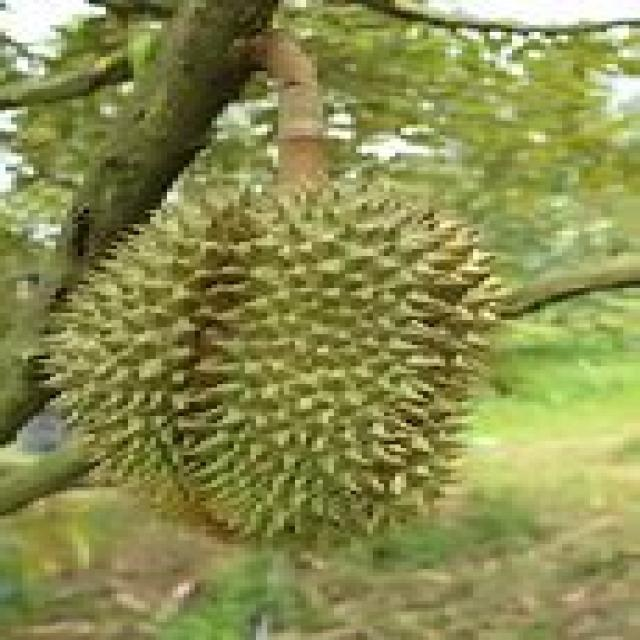immature: (41, 179, 503, 543)
